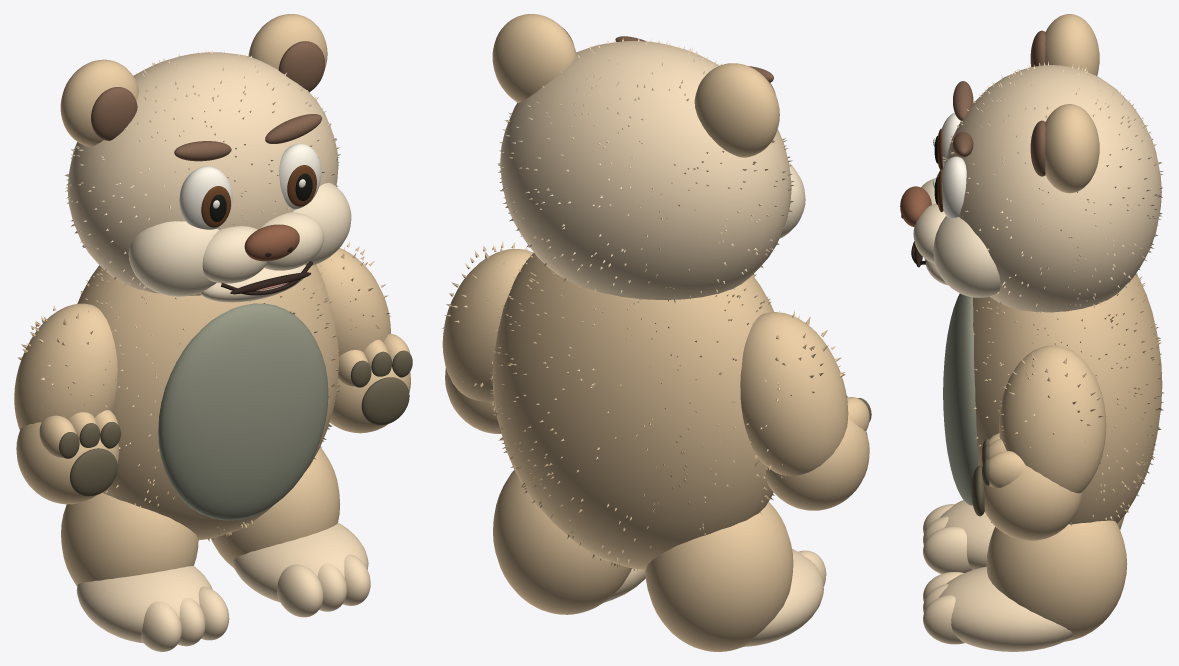
The model's file is knufl-study.glb.
The picture shows the model from 3 angles, left to right: view 1: azimuth 30°, elevation 25°; view 2: azimuth 150°, elevation 25°; view 3: azimuth 270°, elevation 25°; orthographic projection. The views are drawn at different scales.
Visible parts, largest first — view 1: Head, Sage_belly, Round_body, Upper_arm_-1, Leg_-1, Leg_1, Foot_-1, Cheek_-1, Upper_arm_1, Foot_1, Ear_-1, Paw_-1 (+28 smaller); view 2: Round_body, Head, Leg_-1, Upper_arm_-1, Leg_1, Upper_arm_1, Ear_-1, Ear_1, Paw_-1, Foot_-1, Study_Head_nap, Study_Torso_nap (+2 smaller); view 3: Head, Round_body, Upper_arm_1, Leg_1, Foot_1, Sage_belly, Paw_1, Ear_1, Cheek_1, Ear_-1, Foot_-1, Toe_-1_2 (+14 smaller).
Part boxes in pixels (<box>): Head: <box>67,52,338,295</box>; Sage_belly: <box>158,303,328,520</box>; Round_body: <box>77,264,339,540</box>; Upper_arm_-1: <box>14,303,117,429</box>; Leg_-1: <box>61,493,198,586</box>; Leg_1: <box>211,447,339,567</box>; Foot_-1: <box>76,565,212,643</box>; Cheek_-1: <box>128,221,218,296</box>; Upper_arm_1: <box>316,248,390,356</box>; Foot_1: <box>232,522,368,602</box>; Ear_-1: <box>60,59,138,146</box>; Paw_-1: <box>16,422,119,504</box>; Round_body: <box>492,252,773,569</box>; Head: <box>500,41,791,299</box>; Leg_-1: <box>645,502,793,651</box>; Upper_arm_-1: <box>740,312,848,475</box>; Leg_1: <box>493,470,631,614</box>; Upper_arm_1: <box>442,249,533,401</box>; Ear_-1: <box>694,63,779,157</box>; Ear_1: <box>492,14,576,102</box>; Paw_-1: <box>766,418,869,510</box>; Foot_-1: <box>743,549,823,646</box>; Study_Head_nap: <box>498,38,794,302</box>; Study_Torso_nap: <box>489,255,774,571</box>; Head: <box>945,65,1161,312</box>; Round_body: <box>973,273,1162,524</box>; Upper_arm_1: <box>999,345,1106,493</box>; Leg_1: <box>986,520,1127,641</box>; Foot_1: <box>939,566,1072,651</box>; Sage_belly: <box>943,293,978,505</box>; Paw_1: <box>983,465,1082,540</box>; Ear_1: <box>1045,104,1099,193</box>; Cheek_1: <box>933,216,1000,297</box>; Ear_-1: <box>1045,14,1099,75</box>; Foot_-1: <box>940,500,995,569</box>; Toe_-1_2: <box>923,526,971,573</box>.
Bounding box in the file's own units: 2.58 × 3.58 × 1.58.
